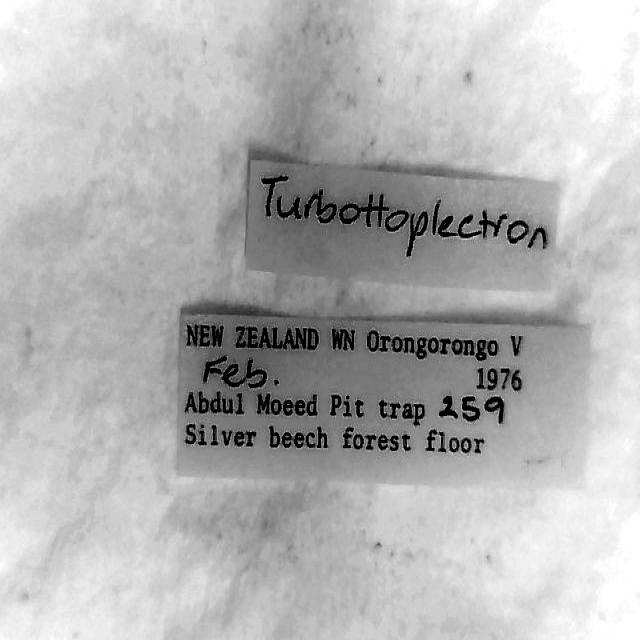hand_label: (245, 161, 558, 289)
mixed_label: (179, 312, 589, 483)
